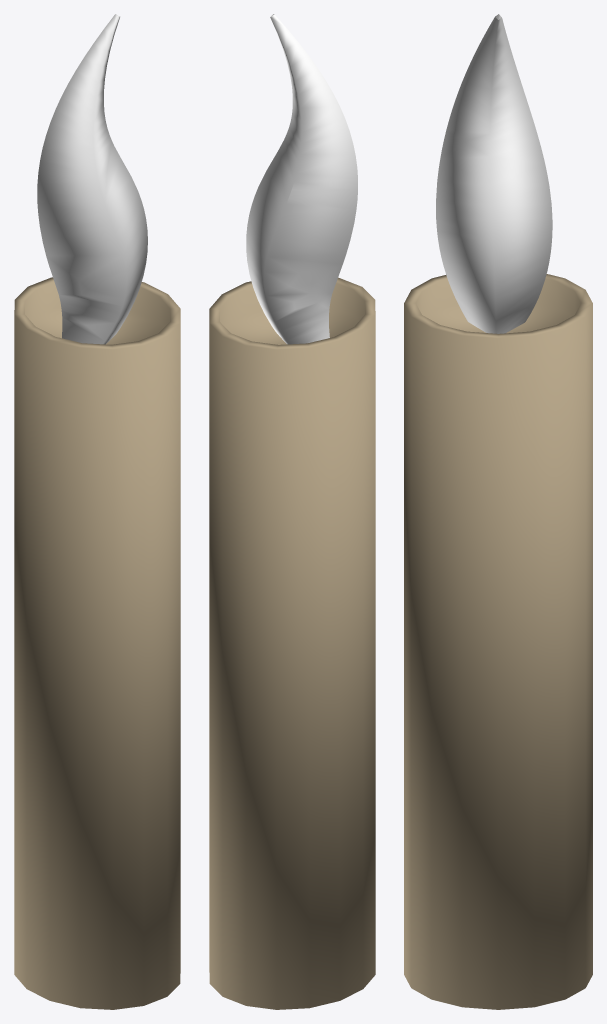
The model's file is Candle1.fbx.
3 views of the same model, side by side, from view 1: azimuth 30°, elevation 25°; view 2: azimuth 150°, elevation 25°; view 3: azimuth 270°, elevation 25° (orthographic).
Visible parts, largest first — view 1: candle L; view 2: candle L; view 3: candle L.
Boxes of the visible parts, x1,y1,x2,y2 form: candle L: (14,14,180,1009); candle L: (209,14,375,1009); candle L: (404,14,592,1009).
Size of the model in its own units: 0.0867 by 0.5586 by 0.0986.
